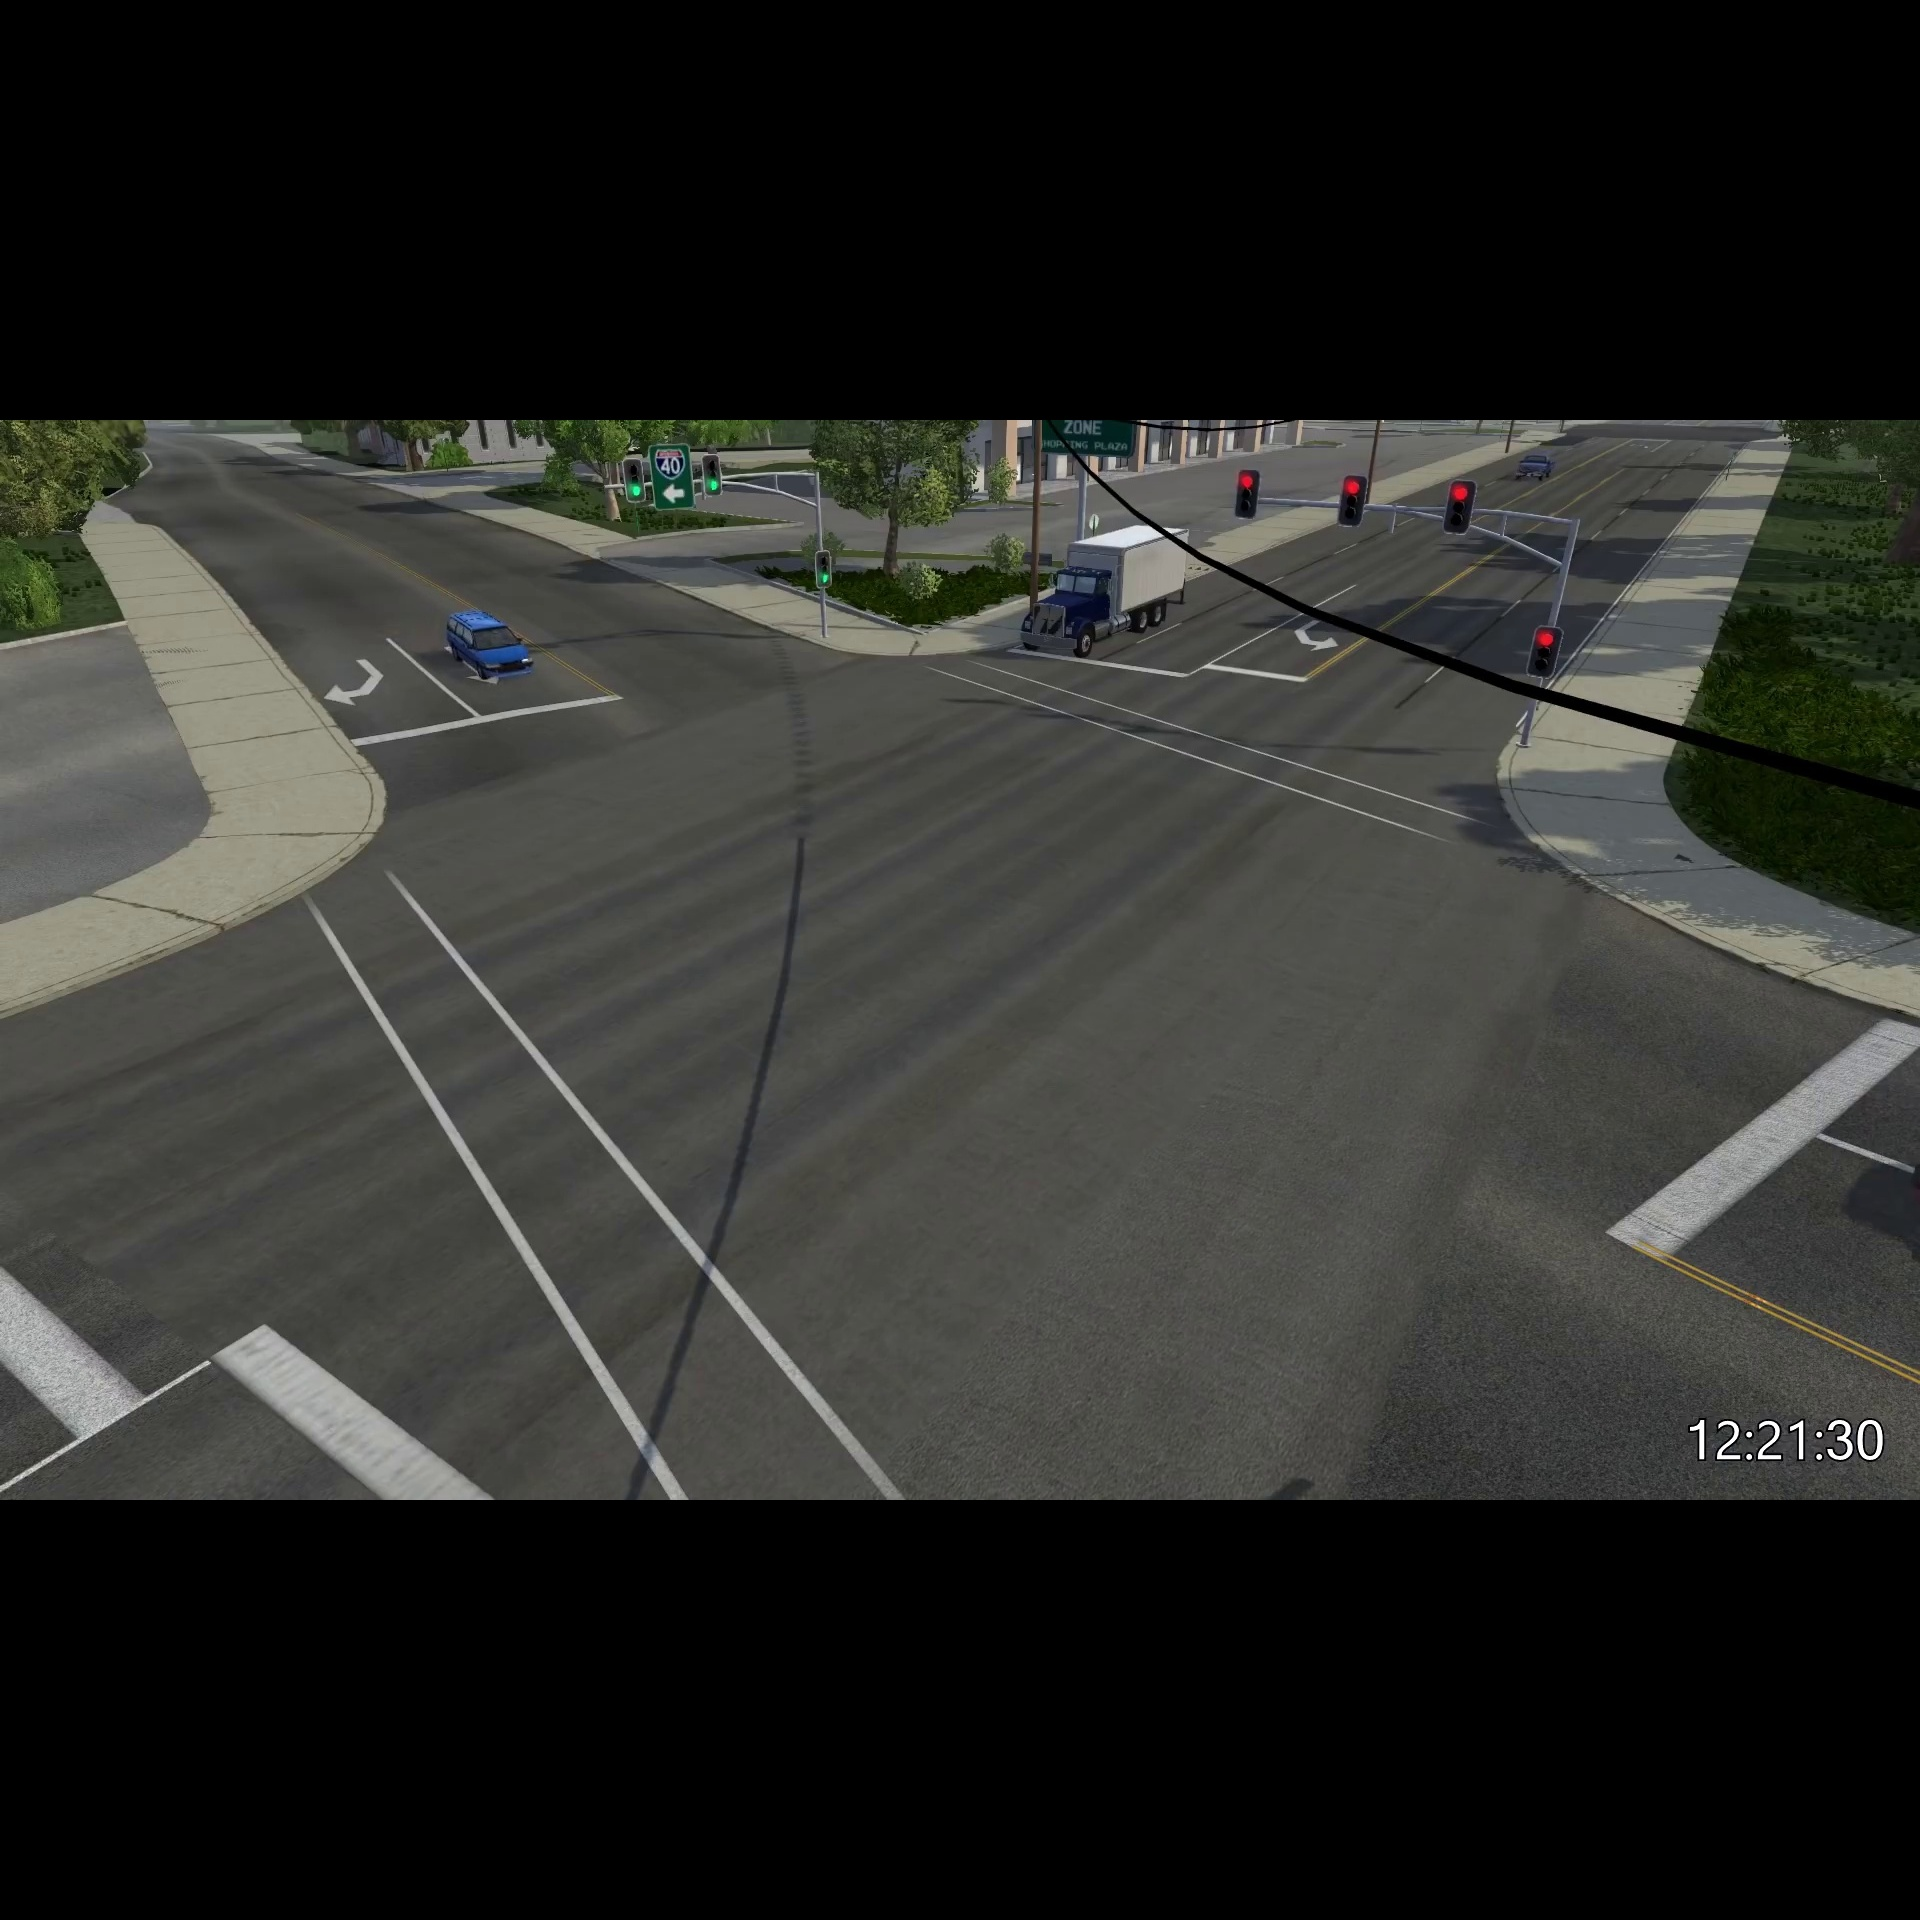vehicle: (1013, 519, 1197, 666), (440, 605, 536, 682)
